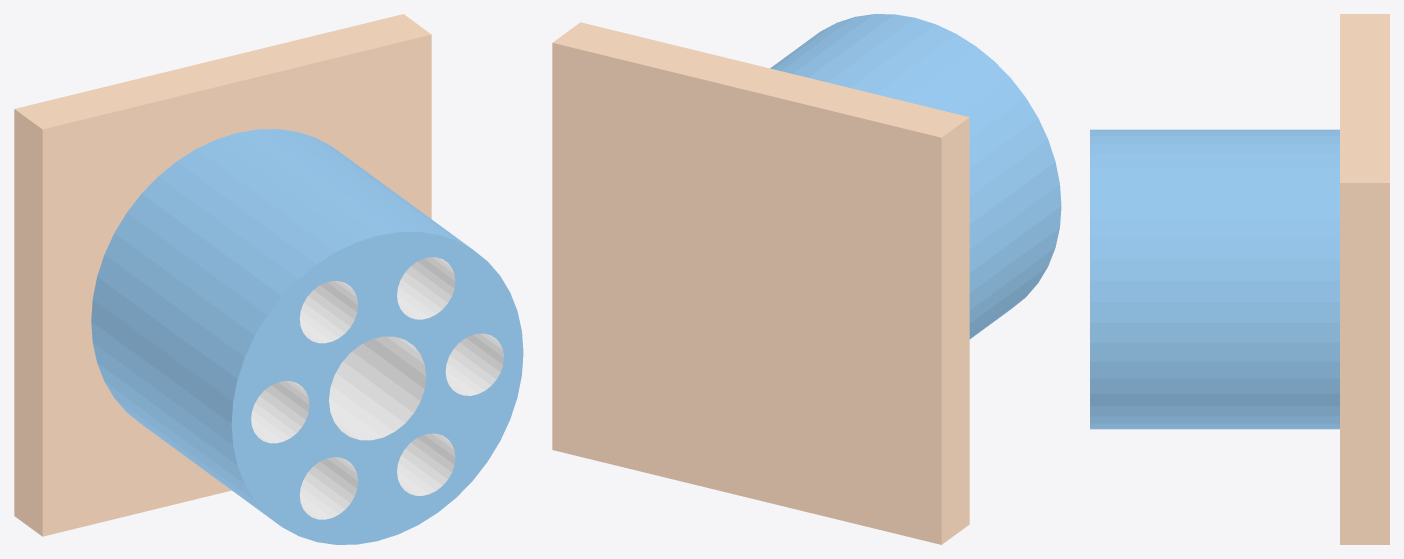
Rendered from flange.glb.
3 renders of one model, left to right at view 1: azimuth 30°, elevation 25°; view 2: azimuth 150°, elevation 25°; view 3: azimuth 270°, elevation 25°, orthographic. The views are drawn at different scales.
Size of the model in its own units: 40 by 40 by 30.
